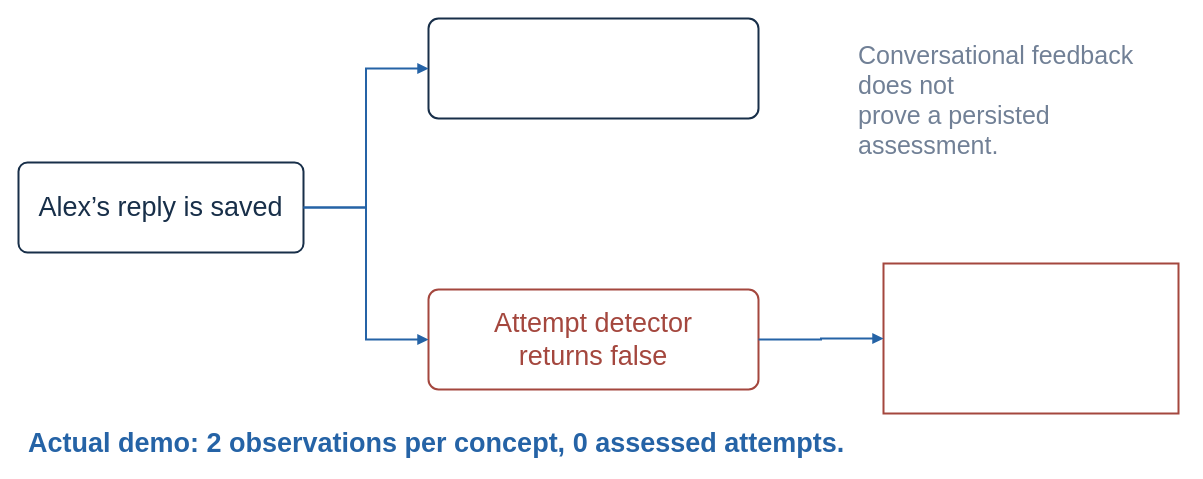
Image size: 1203x479. Some labels were removed from this diagram. Each missing label, with the centre of its shape:
Assessment record NOT_ASSESSED Goal remains active: the point at 1030,338
Conversation Digital Twin says “Yes”: the point at 593,68
